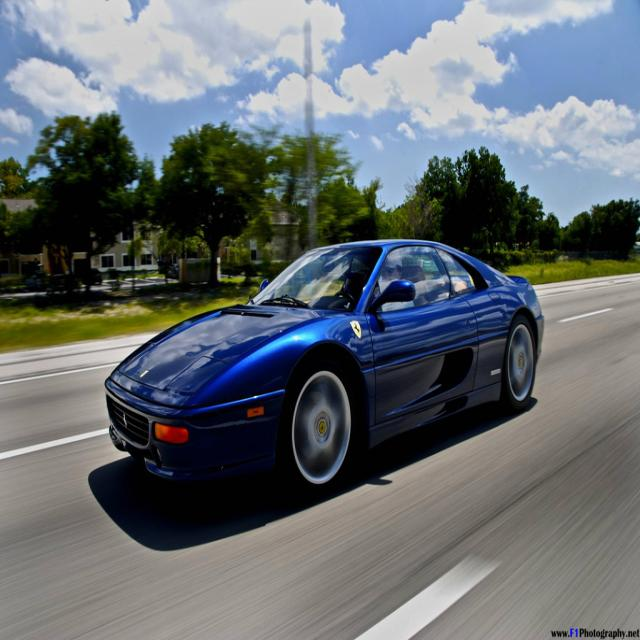car: (104, 237, 545, 496)
